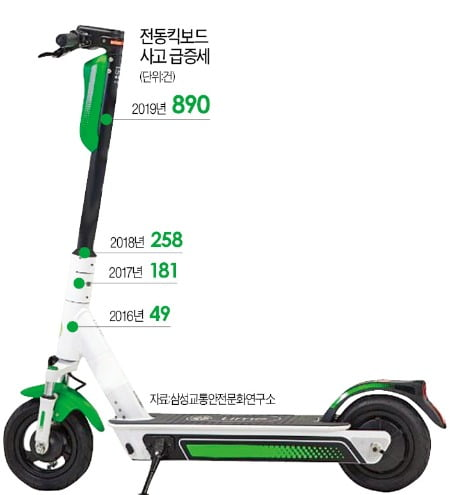kick_body: (103, 413, 348, 463)
kick_handler: (35, 21, 125, 68)
kick_wheel: (333, 378, 439, 492), (6, 384, 103, 488)
